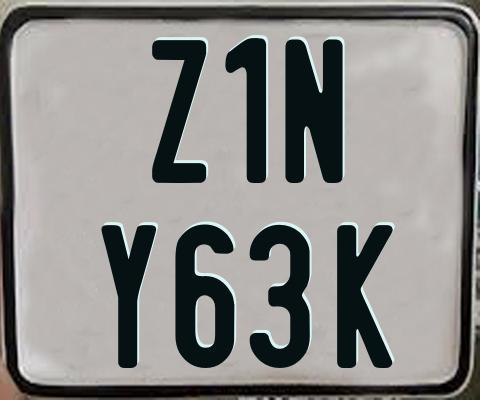1: (222, 35, 267, 184)
3: (249, 223, 315, 367)
6: (172, 225, 233, 373)
K: (336, 222, 392, 366)
N: (284, 38, 343, 184)
Y: (101, 222, 159, 366)
Z: (152, 38, 212, 185)
